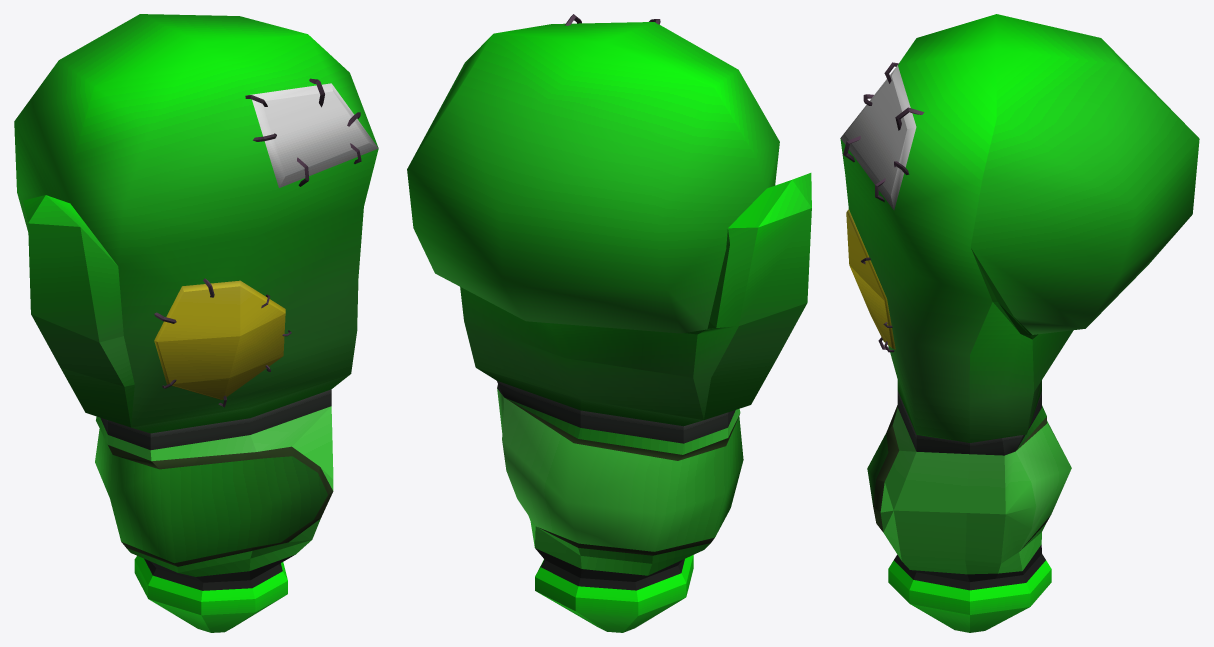
Rendered from SM_BoxingGlove.fbx.
3 renders of one model, left to right at view 1: azimuth 30°, elevation 25°; view 2: azimuth 150°, elevation 25°; view 3: azimuth 270°, elevation 25°, orthographic. The views are drawn at different scales.
Parts seen in each view (by area): view 1: Glove; view 2: Glove; view 3: Glove.
Boxes of the visible parts, x1=… form: Glove: x1=14, y1=14, x2=378, y2=632; Glove: x1=407, y1=14, x2=811, y2=632; Glove: x1=840, y1=14, x2=1199, y2=632.
Size of the model in its own units: 9.4 by 15.03 by 8.5.
